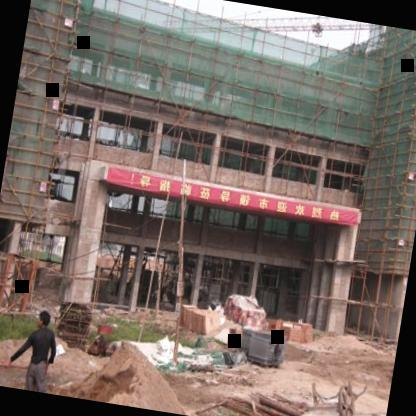head: (32, 306, 54, 333)
